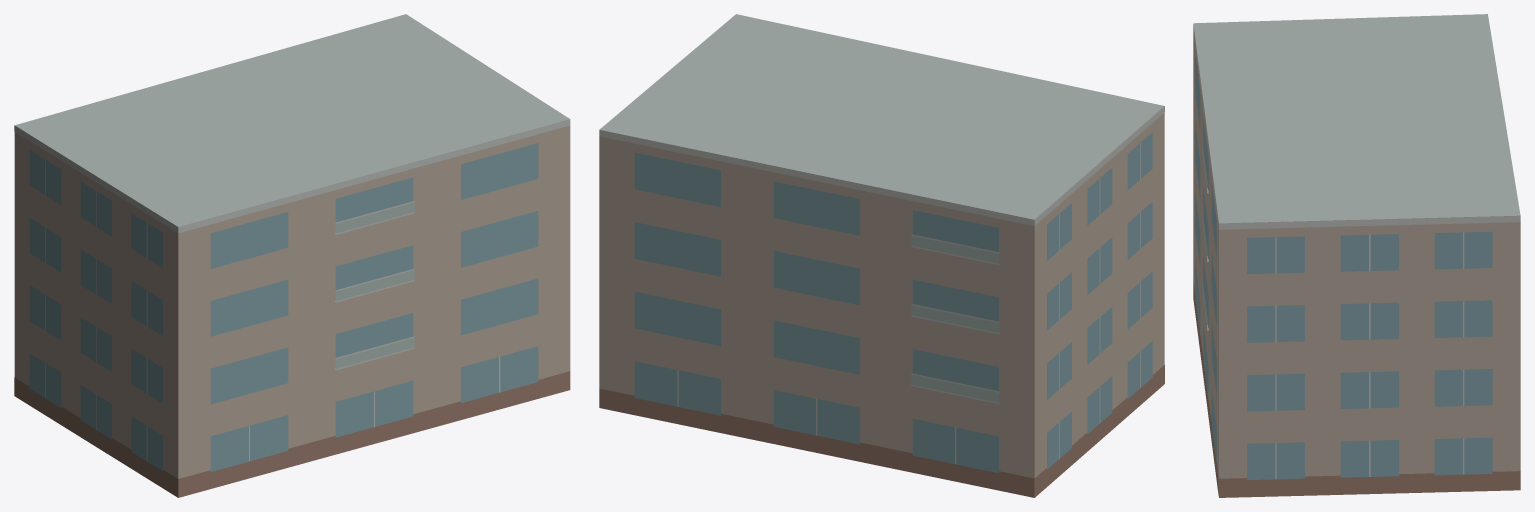
File: survey-upis-32756449.glb
3 views of the same model, side by side, from view 1: azimuth 30°, elevation 25°; view 2: azimuth 150°, elevation 25°; view 3: azimuth 270°, elevation 25° (orthographic). The views are drawn at different scales.
Parts seen in each view (by area): view 1: survey-upis-32756449.tmp; view 2: survey-upis-32756449.tmp; view 3: survey-upis-32756449.tmp.
Part boxes in pixels (x1,y1,x2,y2): survey-upis-32756449.tmp: [14, 14, 570, 497]; survey-upis-32756449.tmp: [599, 14, 1164, 497]; survey-upis-32756449.tmp: [1193, 14, 1520, 497].
Size of the model in its own units: 17.18 by 10.5 by 11.35.
